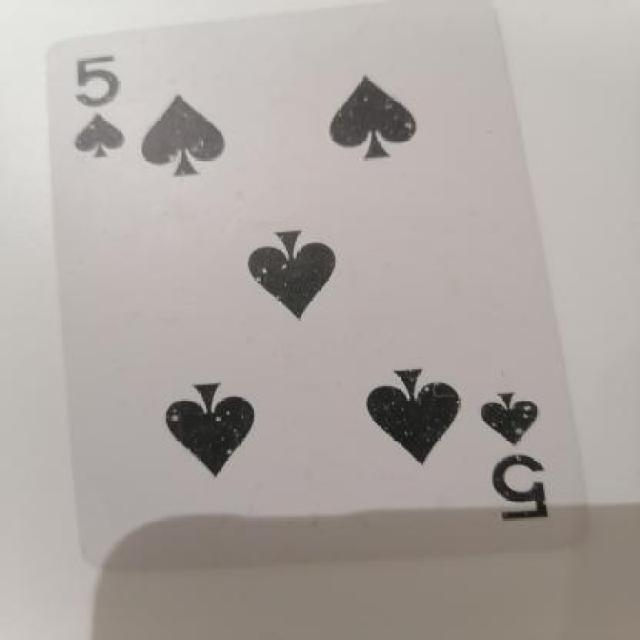5S: (478, 382, 572, 536), (47, 40, 144, 174)
